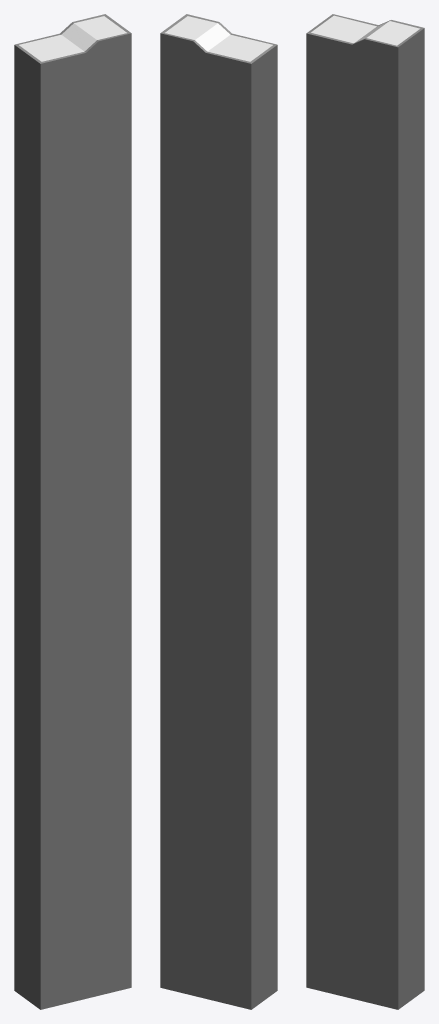
The model's file is stairchunk_edgecut.fbx.
3 renders of one model, left to right at view 1: azimuth 30°, elevation 25°; view 2: azimuth 150°, elevation 25°; view 3: azimuth 330°, elevation 25°, orthographic.
Visible parts, largest first — view 1: stairchunk_edgecut_C1, stairchunk_edgecut_C3, stairchunk_edgecut_C2; view 2: stairchunk_edgecut_C1, stairchunk_edgecut_C3, stairchunk_edgecut_C2; view 3: stairchunk_edgecut_C3, stairchunk_edgecut_C1, stairchunk_edgecut_C2.
Boxes of the visible parts, x1,y1,x2,y2 form: stairchunk_edgecut_C1: (14,33,85,1009); stairchunk_edgecut_C3: (73,14,131,995); stairchunk_edgecut_C2: (60,22,98,998); stairchunk_edgecut_C1: (206,33,277,1009); stairchunk_edgecut_C3: (160,14,218,995); stairchunk_edgecut_C2: (193,22,231,998); stairchunk_edgecut_C3: (365,20,424,1009); stairchunk_edgecut_C1: (306,14,378,998); stairchunk_edgecut_C2: (352,20,390,1001).
Size of the model in its own units: 50 by 25 by 500.
